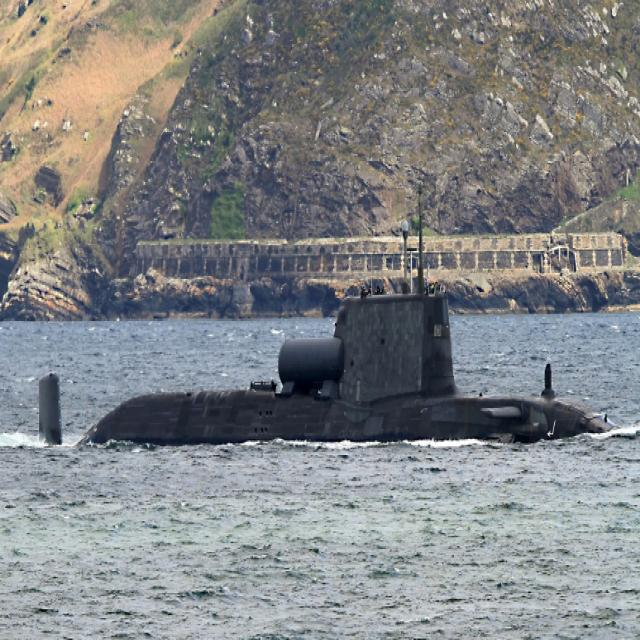submarine: (34, 293, 612, 447)
